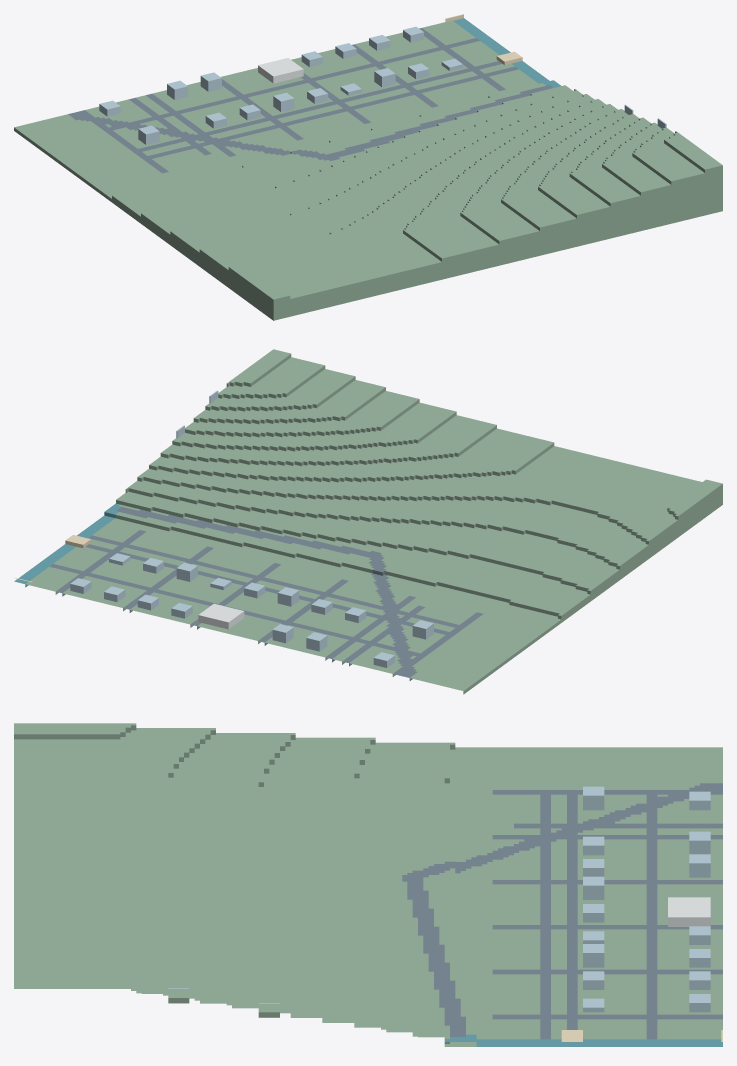
The model's file is sector-nw.glb.
3 renders of one model, top to bottom at view 1: azimuth 30°, elevation 25°; view 2: azimuth 150°, elevation 25°; view 3: azimuth 270°, elevation 25°, orthographic. The views are drawn at different scales.
Parts seen in each view (by area): view 1: material_1, material_2, material_4, material_3, material_5; view 2: material_1, material_2, material_4, material_3, material_5; view 3: material_1, material_2, material_4, material_3, material_5.
Part boxes in pixels (box(x1,y1,x2,y2)): material_1: box(14, 21, 722, 320); material_2: box(68, 28, 553, 173); material_4: box(99, 26, 666, 144); material_3: box(453, 18, 560, 87); material_5: box(258, 58, 303, 83); material_1: box(25, 349, 722, 694); material_2: box(49, 507, 483, 680); material_4: box(70, 390, 433, 667); material_3: box(14, 503, 121, 587); material_5: box(198, 603, 244, 629); material_1: box(14, 723, 722, 1046); material_2: box(402, 783, 722, 1039); material_4: box(168, 786, 710, 1012); material_3: box(444, 1034, 722, 1046); material_5: box(668, 897, 710, 926).
Size of the model in its own units: 1333 by 130 by 1333.
